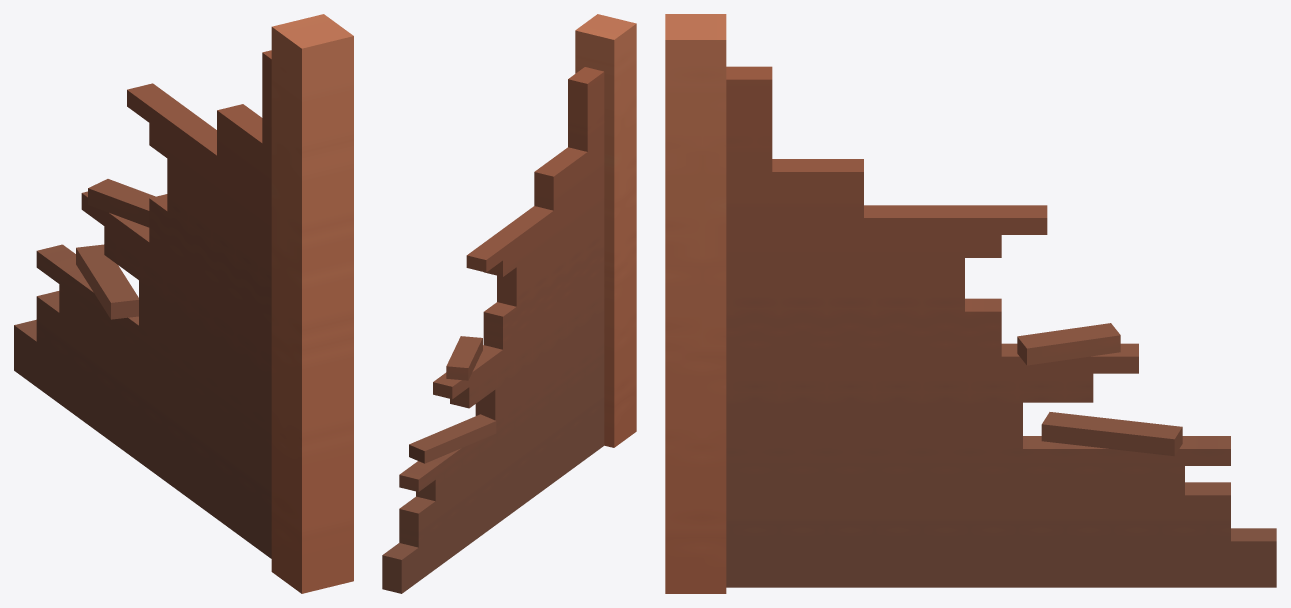
Rendered from wallWoodBroken.fbx.
3 views of the same model, side by side, from view 1: azimuth 30°, elevation 25°; view 2: azimuth 150°, elevation 25°; view 3: azimuth 270°, elevation 25° (orthographic). The views are drawn at different scales.
Parts seen in each view (by area): view 1: wallWoodBroken; view 2: wallWoodBroken; view 3: wallWoodBroken.
Boxes of the visible parts, x1,y1,x2,y2 form: wallWoodBroken: (14, 14, 353, 593); wallWoodBroken: (382, 14, 636, 593); wallWoodBroken: (665, 14, 1276, 593).
Size of the model in its own units: 0.1129 by 1 by 1.
